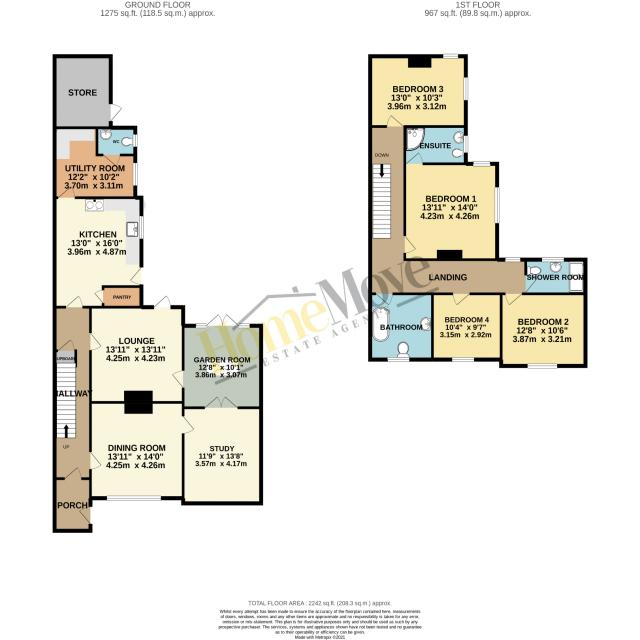DOOR: (448, 292, 475, 309), (127, 261, 144, 288), (384, 112, 409, 130), (149, 292, 174, 310), (181, 412, 197, 440), (402, 231, 419, 257), (168, 367, 185, 393), (89, 447, 104, 473), (89, 328, 104, 353), (404, 149, 426, 166), (503, 292, 525, 307), (374, 292, 396, 307), (55, 184, 77, 199), (62, 294, 84, 308)
DOUBLE DOOR: (202, 393, 240, 409), (206, 311, 239, 328)
ROOM: (52, 183, 144, 308), (88, 293, 185, 404), (89, 400, 195, 500), (181, 389, 264, 506), (403, 161, 499, 261), (368, 54, 468, 127), (500, 292, 588, 368), (431, 292, 502, 361)
WINDOW: (106, 494, 163, 502), (493, 185, 502, 225), (526, 361, 558, 370), (138, 214, 146, 240), (462, 76, 470, 102), (386, 355, 411, 363), (451, 356, 475, 364), (541, 255, 565, 263), (132, 161, 139, 187), (462, 133, 470, 154), (504, 255, 522, 264), (473, 159, 492, 167), (442, 52, 459, 60), (238, 322, 252, 329), (132, 133, 138, 148), (195, 322, 207, 329)
